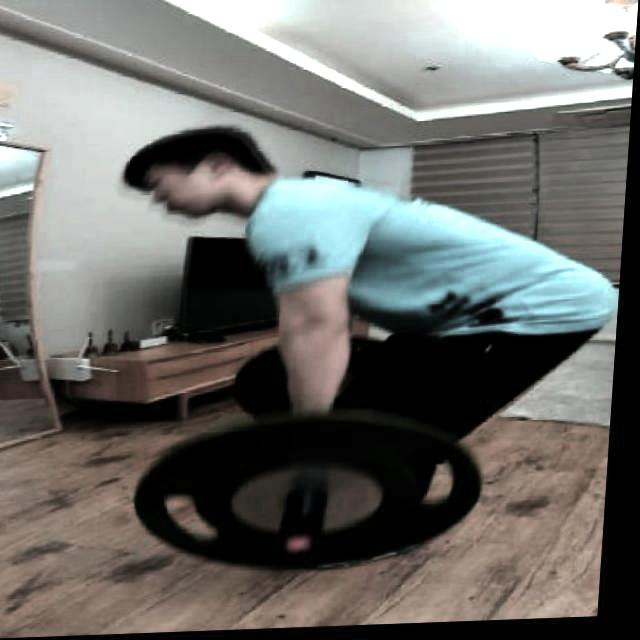barbell: (131, 407, 502, 590)
